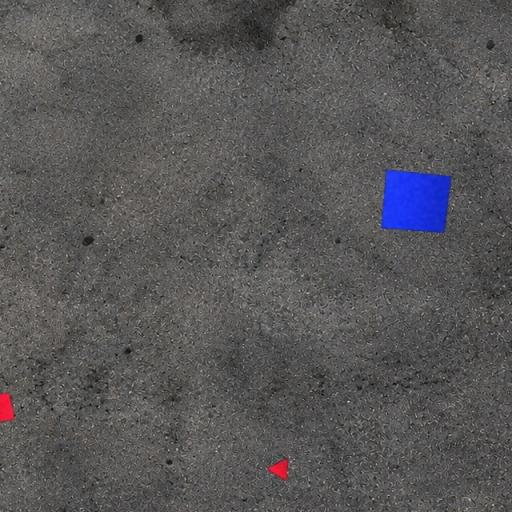BLUE_SQUARE: (381, 169, 452, 233)
RED_SQUARE: (0, 392, 16, 425)
